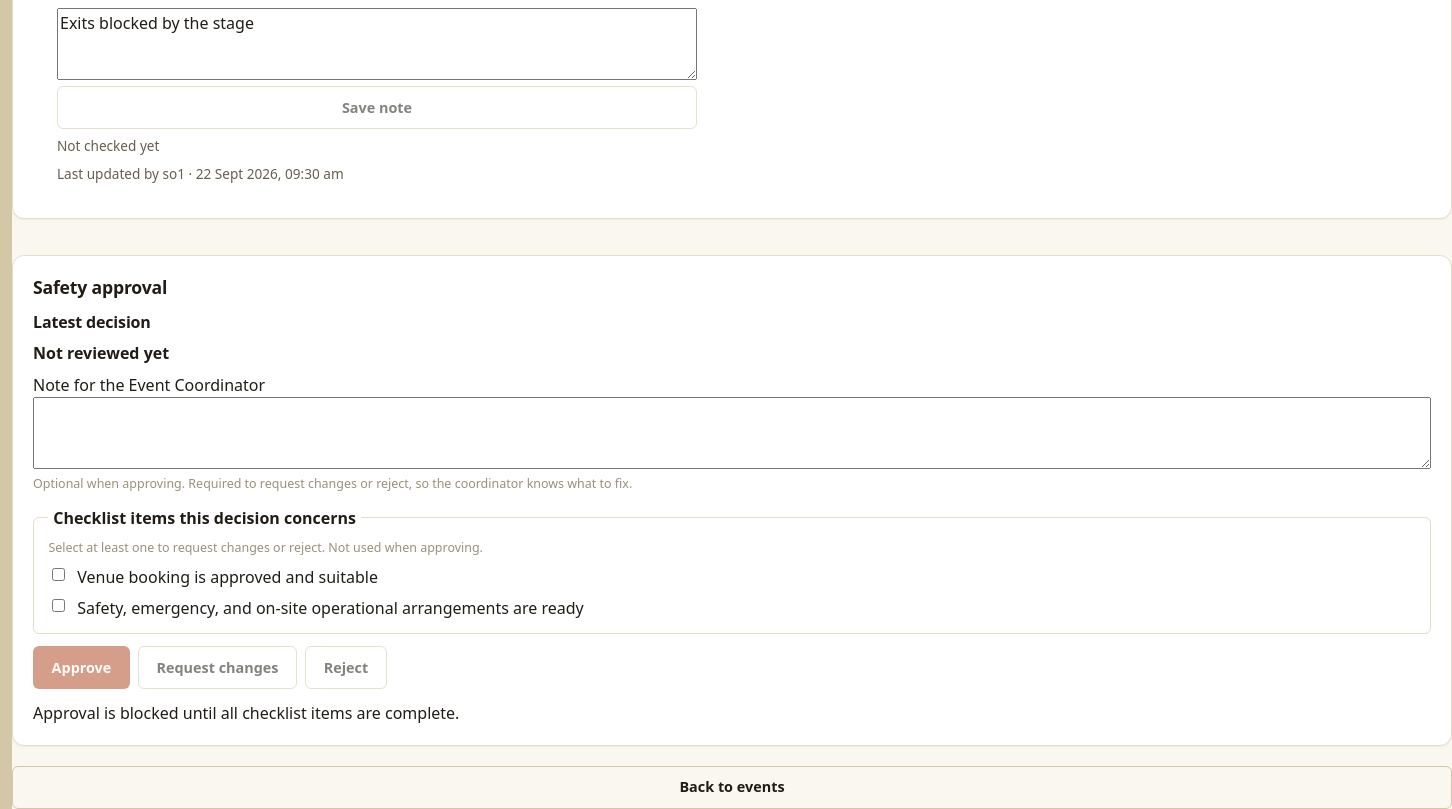
Test: SO-C5 / SO-C6 Safety Officer decisions › SO-C5 AC8, SO-C6 AC9 (conflict): when the event was decided meanwhile, the refusal is shown with the event as it now is
The width and height of the screenshot is (1452, 809).
(page scrolled)
In the text box labelled "Note for the Event Coordinator": x=732, y=433 [33,397,1431,469], type "Exits blocked"
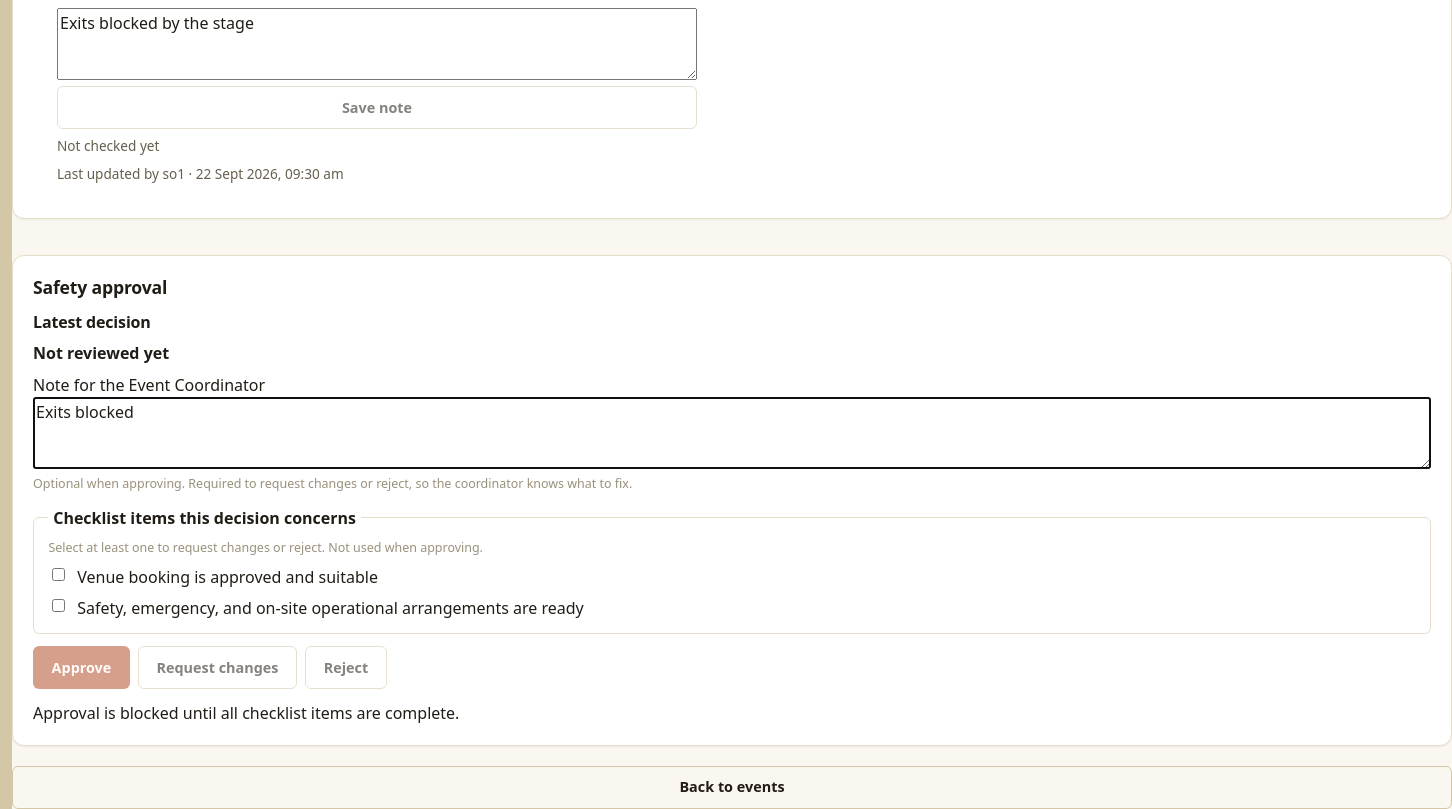
Click the checkbox labelled "Safety, emergency": x=59, y=606 [52,599,65,612]
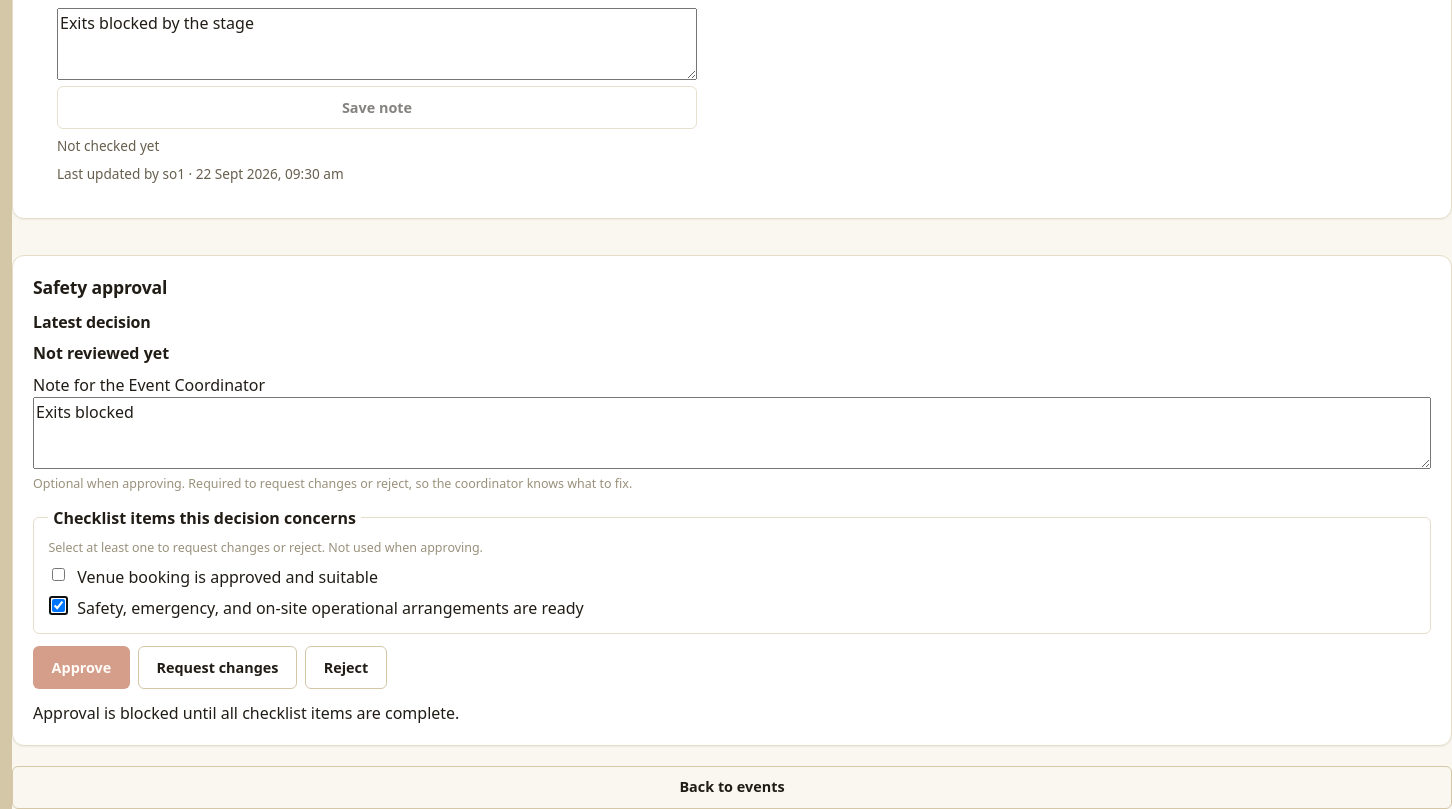
Click the button "Reject": x=346, y=667 [305,646,387,689]
(page scrolled)
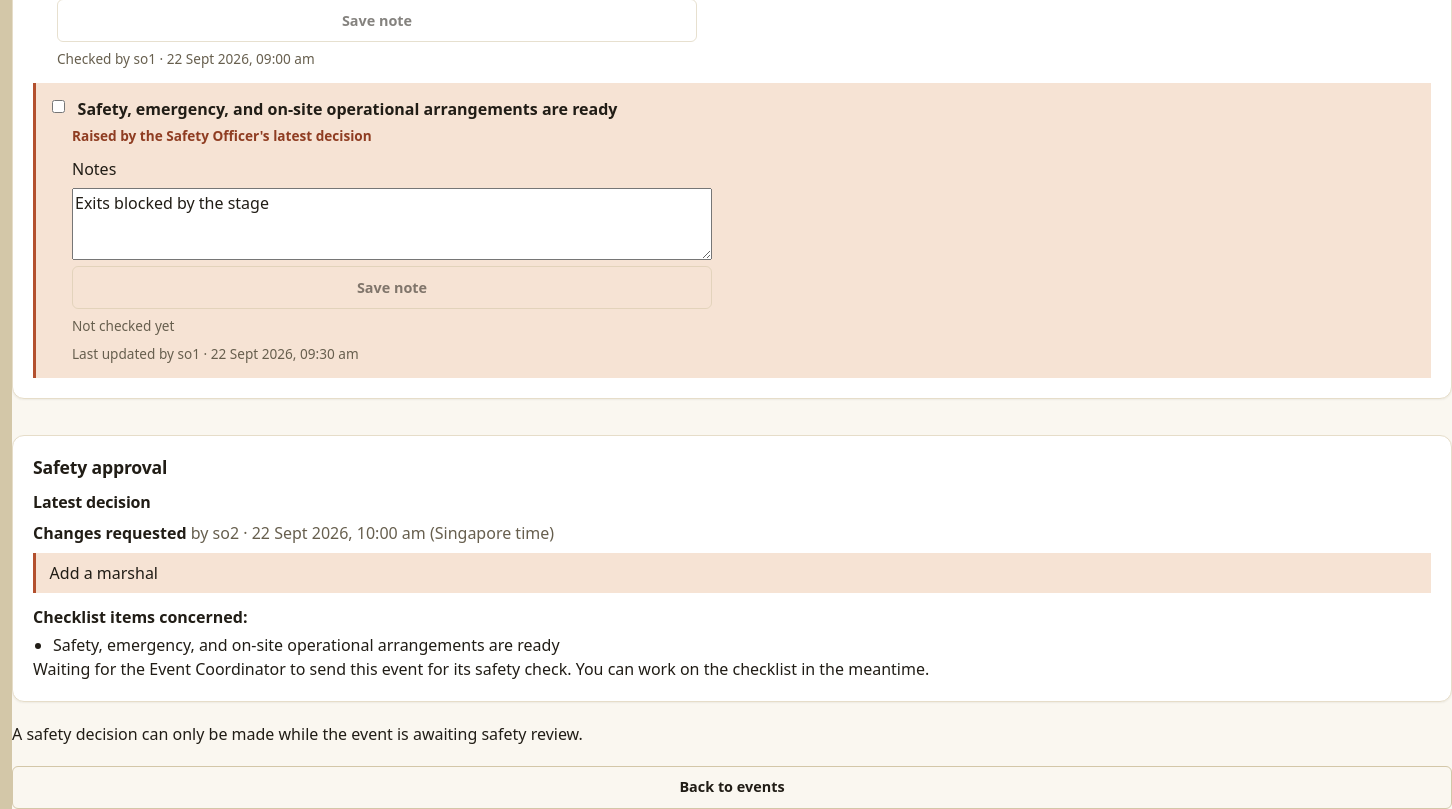
Now the text "by so2 · 22 Sept 2026, 10:00 am (Singapore time)" is shown, box [187,522,554,544]
Now the text "Changes requested" is shown, box [33,522,187,544]
Now the text "reject" is gone
